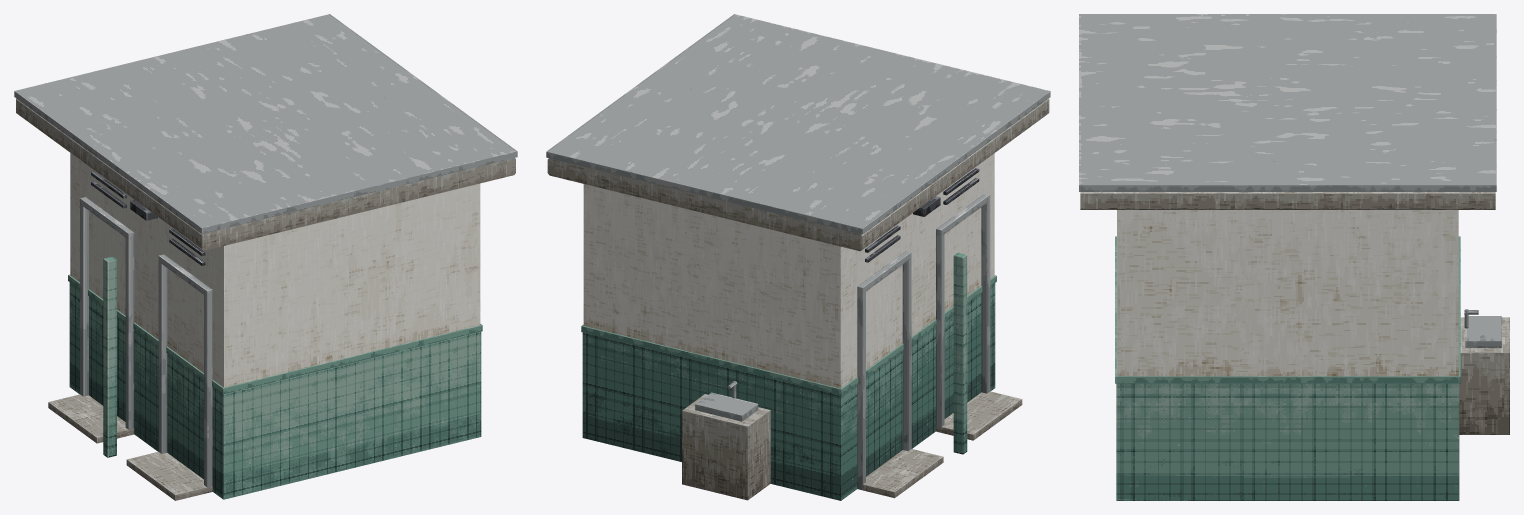
The model's file is park_toilet.glb.
3 renders of one model, left to right at view 1: azimuth 30°, elevation 25°; view 2: azimuth 150°, elevation 25°; view 3: azimuth 270°, elevation 25°, orthographic. The views are drawn at different scales.
Parts seen in each view (by area): view 1: park_toilet; view 2: park_toilet; view 3: park_toilet.
Boxes of the visible parts, bbox=[...] form: park_toilet: bbox=[14, 14, 517, 500]; park_toilet: bbox=[546, 14, 1050, 500]; park_toilet: bbox=[1079, 14, 1509, 500].
Bounding box in the file's own units: 3.43 × 2.99 × 3.58.
1 material, 1 textured.
